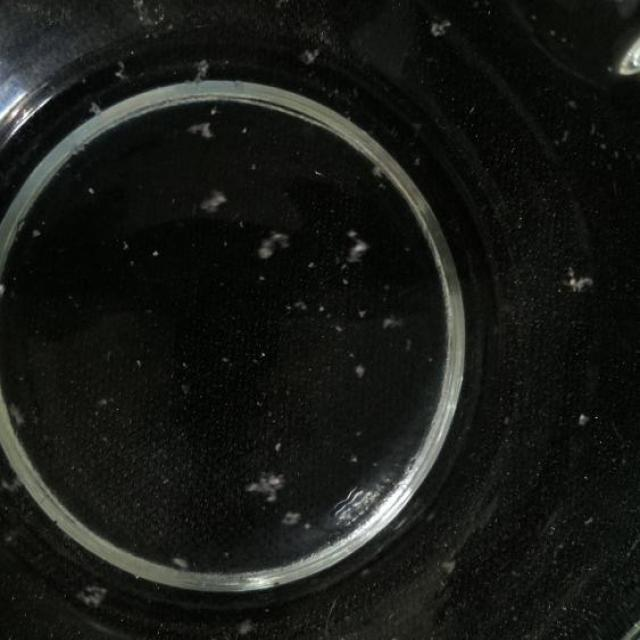fiber: (245, 458, 292, 502), (272, 489, 312, 533), (76, 578, 111, 616), (257, 227, 289, 263), (197, 189, 238, 214), (188, 113, 218, 145), (344, 234, 369, 269), (5, 399, 36, 427), (566, 269, 596, 294), (383, 308, 410, 335), (426, 13, 454, 39), (185, 52, 213, 78), (237, 608, 263, 634), (86, 97, 111, 123), (174, 554, 197, 579), (303, 45, 321, 67)
